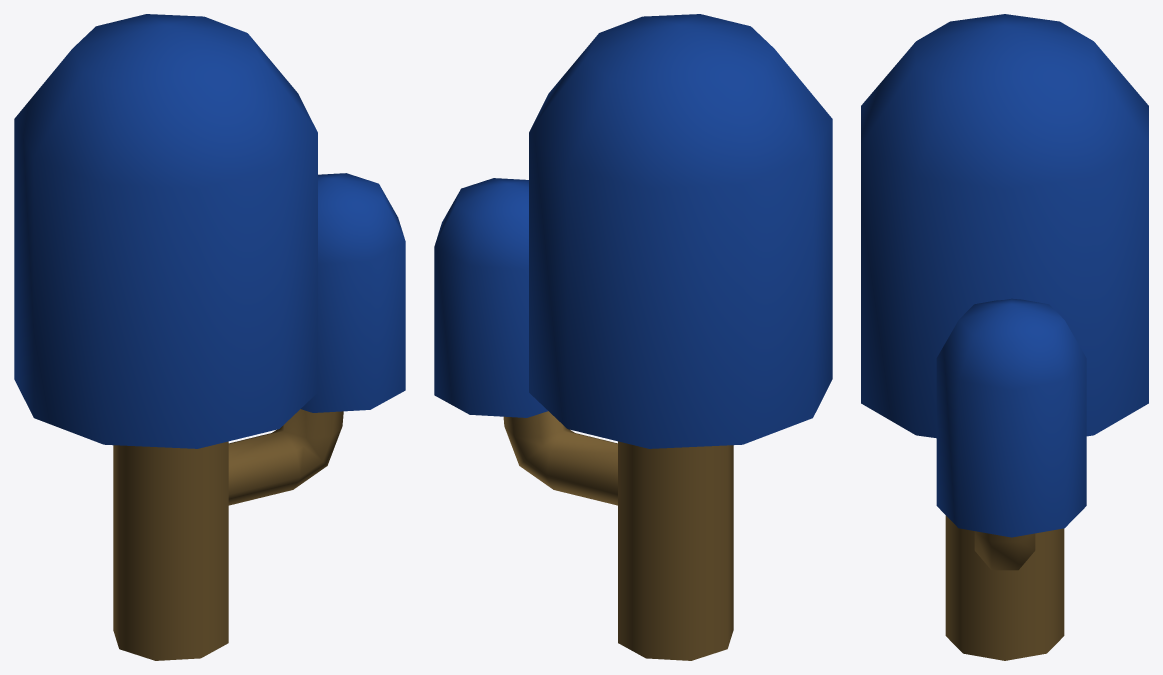
File: TreeSmall.FBX
3 renders of one model, left to right at view 1: azimuth 30°, elevation 25°; view 2: azimuth 150°, elevation 25°; view 3: azimuth 270°, elevation 25°, orthographic.
Parts seen in each view (by area): view 1: Cylinder004; view 2: Cylinder004; view 3: Cylinder004.
Part boxes in pixels (<box>): Cylinder004: <box>14,14,405,660</box>; Cylinder004: <box>434,14,832,660</box>; Cylinder004: <box>861,14,1148,660</box>.
Size of the model in its own units: 270 by 429 by 184.
